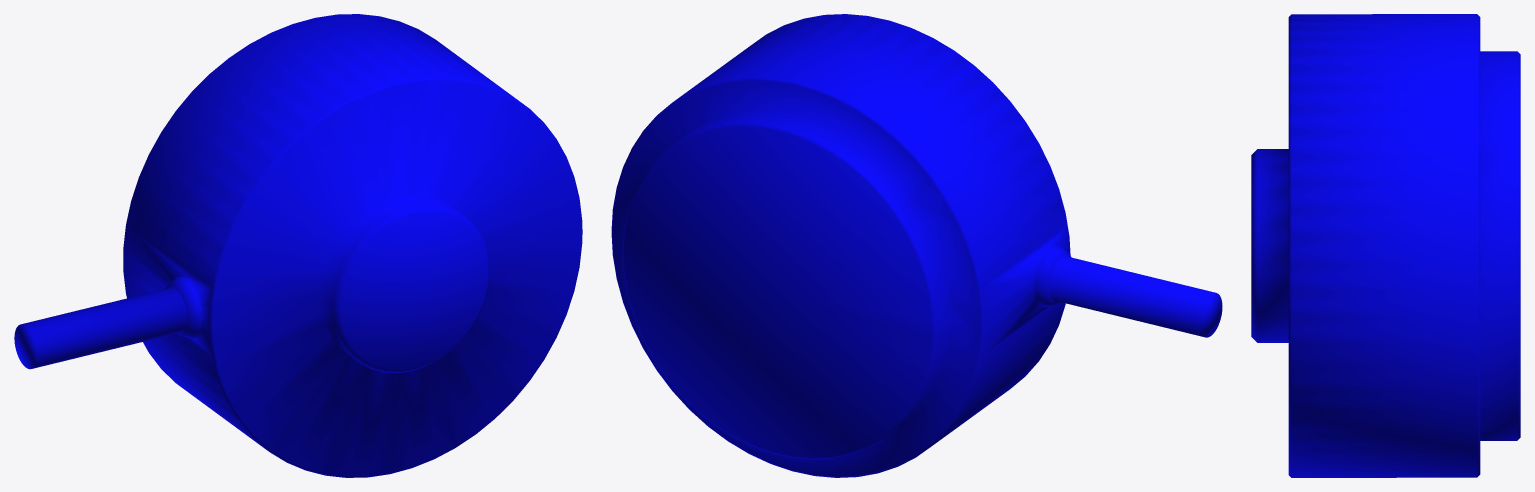
Rendered from sensor.fbx.
3 renders of one model, left to right at view 1: azimuth 30°, elevation 25°; view 2: azimuth 150°, elevation 25°; view 3: azimuth 270°, elevation 25°, orthographic. The views are drawn at different scales.
Visible parts, largest first — view 1: Sensor; view 2: Sensor; view 3: Sensor.
Boxes of the visible parts, x1,y1,x2,y2 form: Sensor: (14,14,582,477); Sensor: (611,14,1222,477); Sensor: (1251,14,1520,477).
Size of the model in its own units: 10.75 by 7.5 by 4.35.
